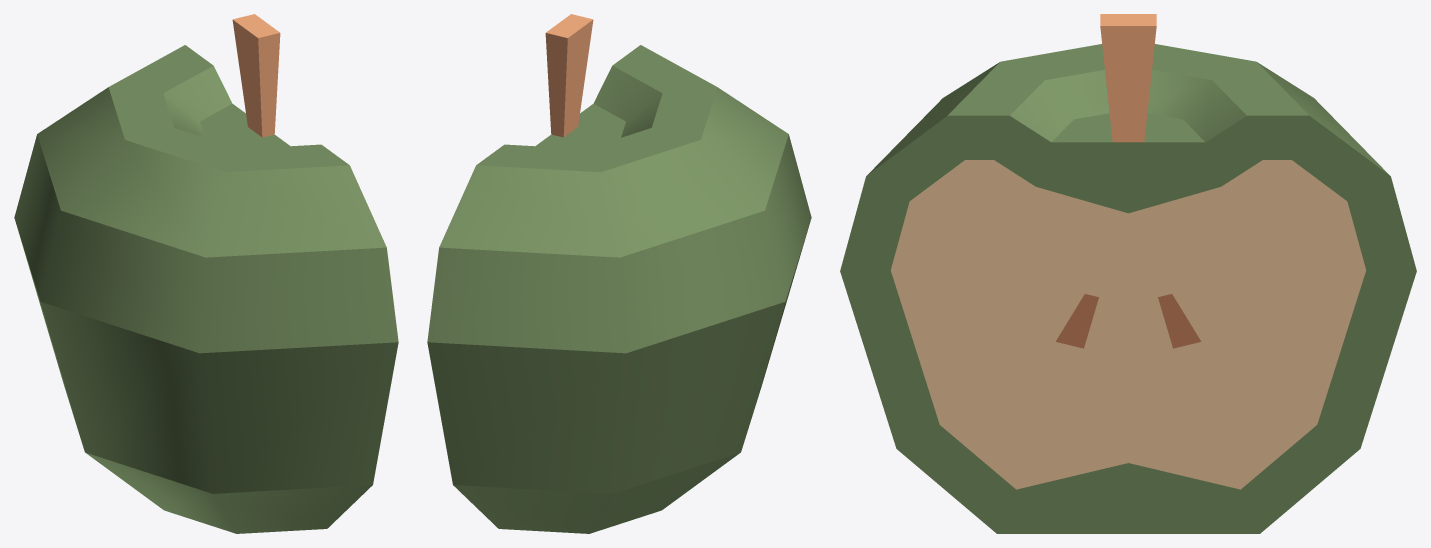
File: apple_half_green.glb
3 renders of one model, left to right at view 1: azimuth 30°, elevation 25°; view 2: azimuth 150°, elevation 25°; view 3: azimuth 270°, elevation 25°, orthographic. The views are drawn at different scales.
Visible parts, largest first — view 1: appleHalf; view 2: appleHalf; view 3: appleHalf.
Part boxes in pixels (left/top/right/bottom): appleHalf: left=14, top=14, right=398, bottom=533; appleHalf: left=427, top=14, right=811, bottom=533; appleHalf: left=840, top=14, right=1416, bottom=533.
Bounding box in the file's own units: 0.0981 × 0.1908 × 0.1963.
